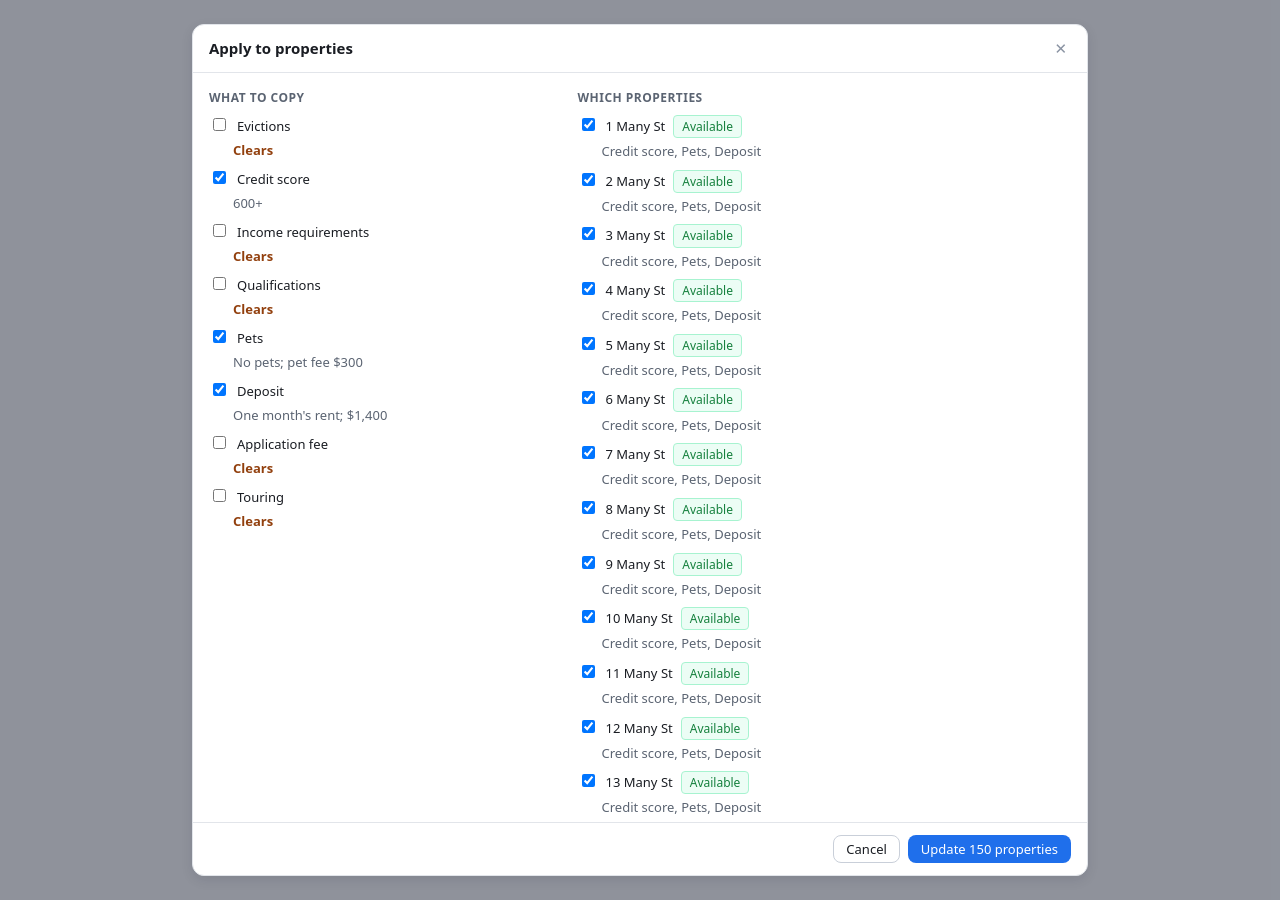
Test: ApplyRequirementsDialog - a landlord deposit holding both forms (code review RD-1, worklist OR-31) › a first request answering 409 deposit_conflict says what to fix, sends no further batch and re-reads
Click the button "Update 150 properties": click(989, 849) [908,835,1071,863]
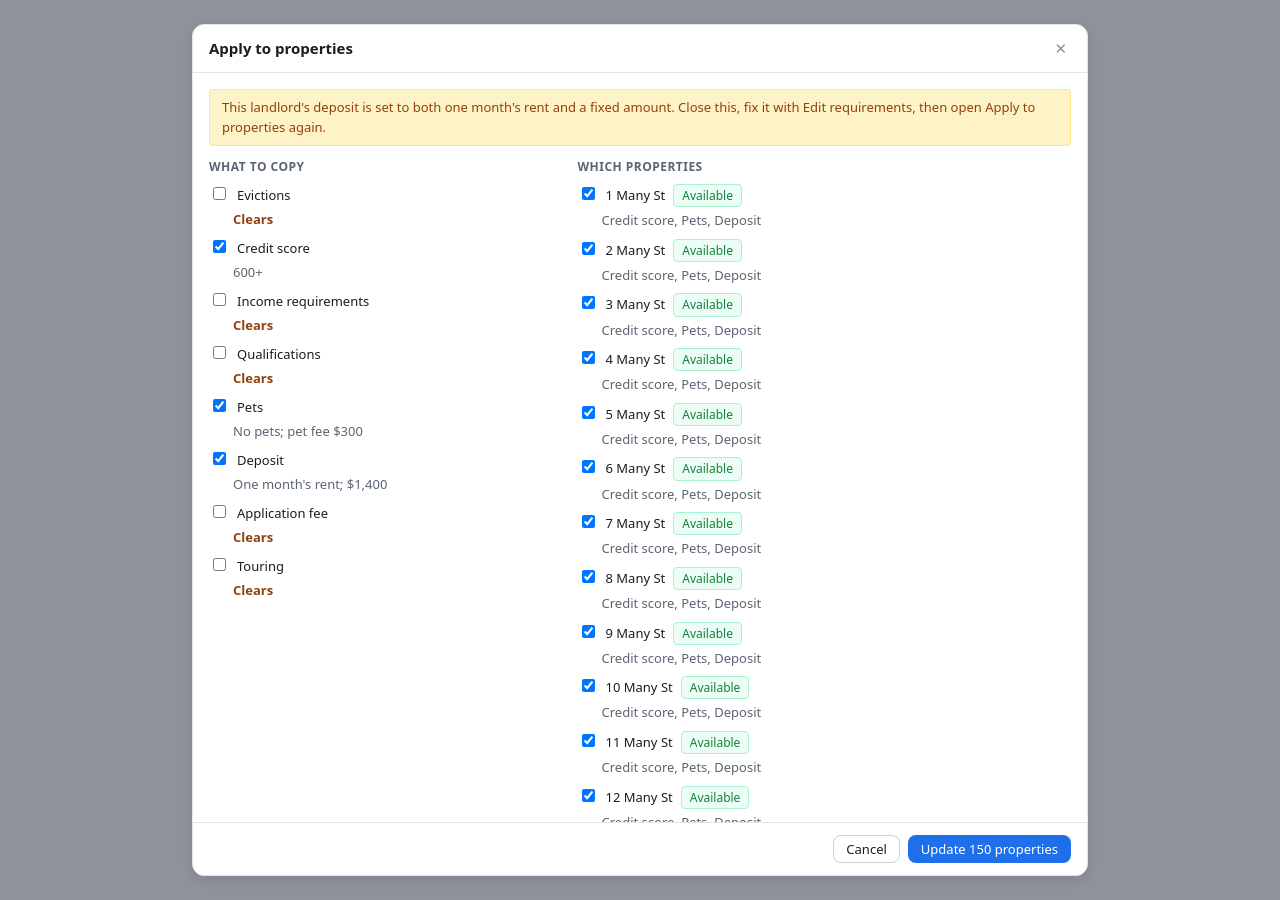
expect the text "This landlord's deposit is set to both one month's rent and a fixed amount. Close this, fix it with Edit requirements, t" is shown: met, box [222,98,1035,136]
